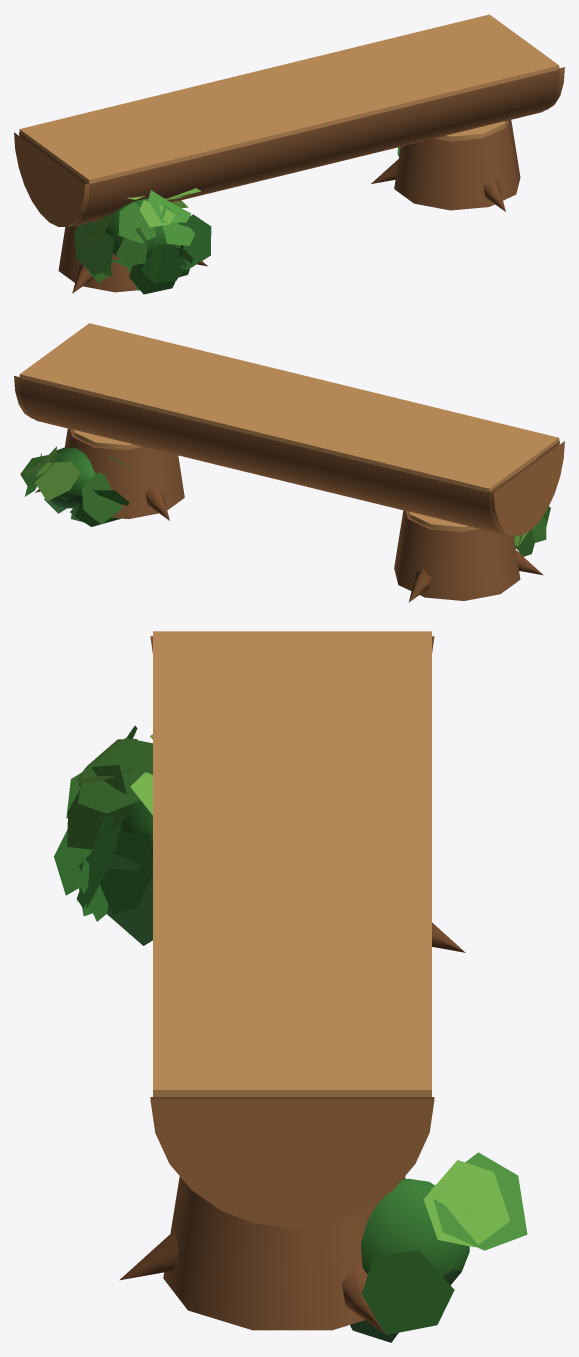
The model's file is Bench.glb.
3 renders of one model, top to bottom at view 1: azimuth 30°, elevation 25°; view 2: azimuth 150°, elevation 25°; view 3: azimuth 270°, elevation 25°, orthographic. The views are drawn at different scales.
Visible parts, largest first — view 1: Body; view 2: Body; view 3: Body.
Boxes of the visible parts, left/top/right/bottom form: Body: left=14, top=14, right=564, bottom=294; Body: left=14, top=323, right=564, bottom=602; Body: left=54, top=631, right=527, bottom=1342.
Size of the model in its own units: 4.29 by 1.2 by 1.84.
Materials: 1 (1 with a texture image).
